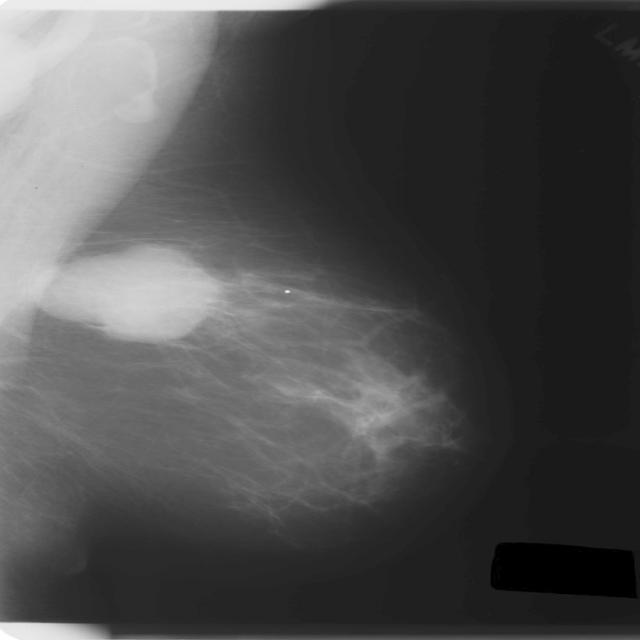tumour: (25, 242, 220, 340)
